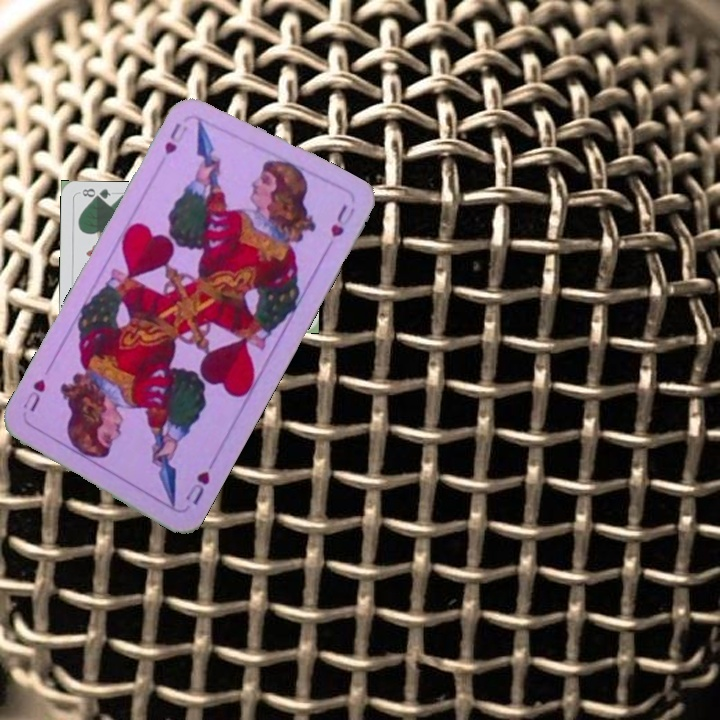HU: (181, 467, 213, 508), (160, 118, 184, 158)
